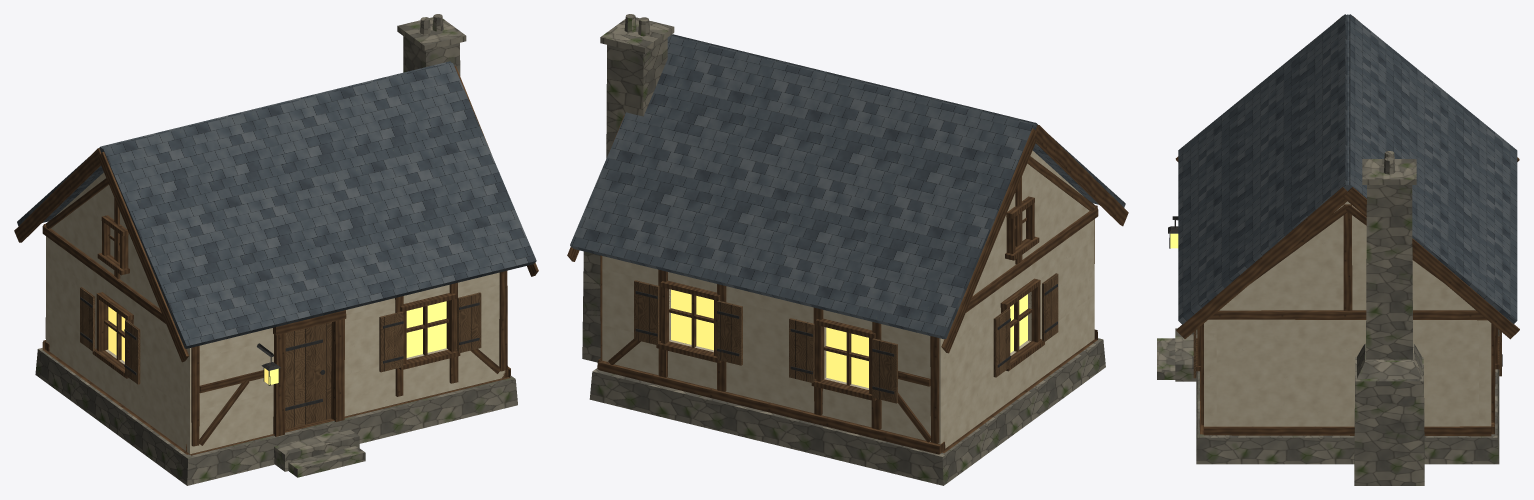
Rendered from Cottage_A.fbx.
The picture shows the model from 3 angles, left to right: view 1: azimuth 30°, elevation 25°; view 2: azimuth 150°, elevation 25°; view 3: azimuth 270°, elevation 25°; orthographic projection. The views are drawn at different scales.
Parts seen in each view (by area): view 1: Cottage_A; view 2: Cottage_A; view 3: Cottage_A.
Boxes of the visible parts, left/top/right/bottom form: Cottage_A: left=14, top=14, right=538, bottom=485; Cottage_A: left=567, top=14, right=1128, bottom=485; Cottage_A: left=1157, top=14, right=1519, bottom=485.
Bounding box in the file's own units: 8.53 × 6.63 × 6.94.
